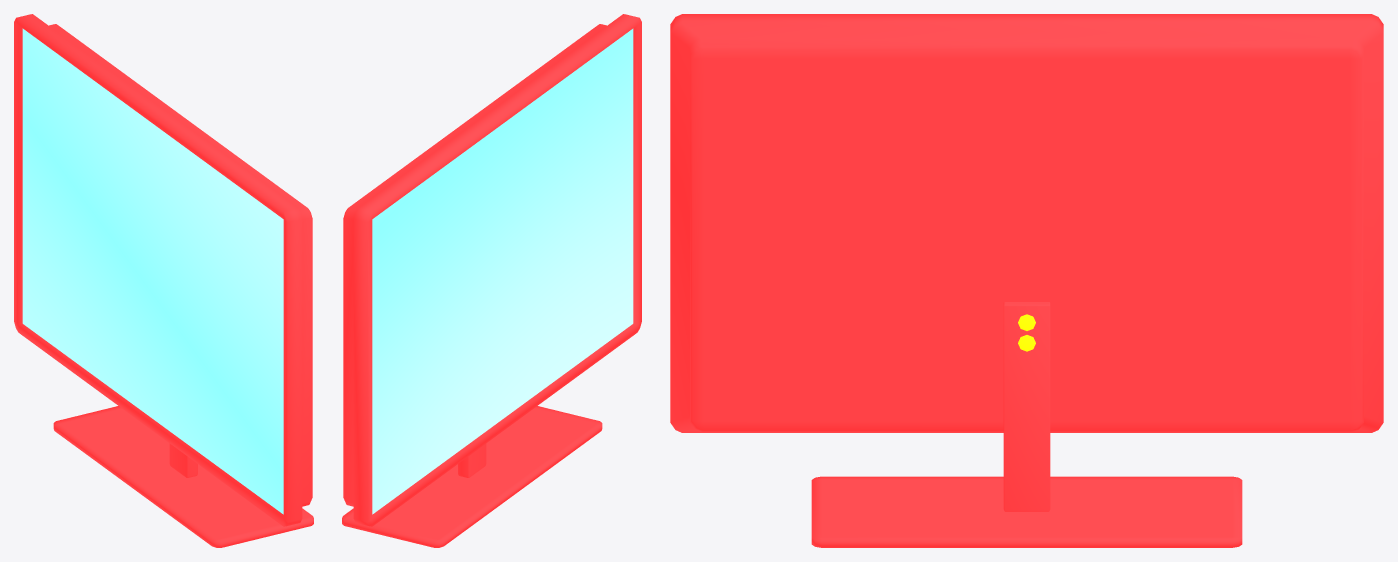
The model's file is MOD_ELE_TV_01.fbx.
The picture shows the model from 3 angles, left to right: view 1: azimuth 30°, elevation 25°; view 2: azimuth 150°, elevation 25°; view 3: azimuth 270°, elevation 25°; orthographic projection. The views are drawn at different scales.
Visible parts, largest first — view 1: polySurface1; view 2: polySurface1; view 3: polySurface1.
Part boxes in pixels (bbox=[...]): polySurface1: bbox=[14, 14, 313, 547]; polySurface1: bbox=[342, 14, 641, 547]; polySurface1: bbox=[670, 14, 1383, 547].
Size of the model in its own units: 36.53 by 128 by 172.
